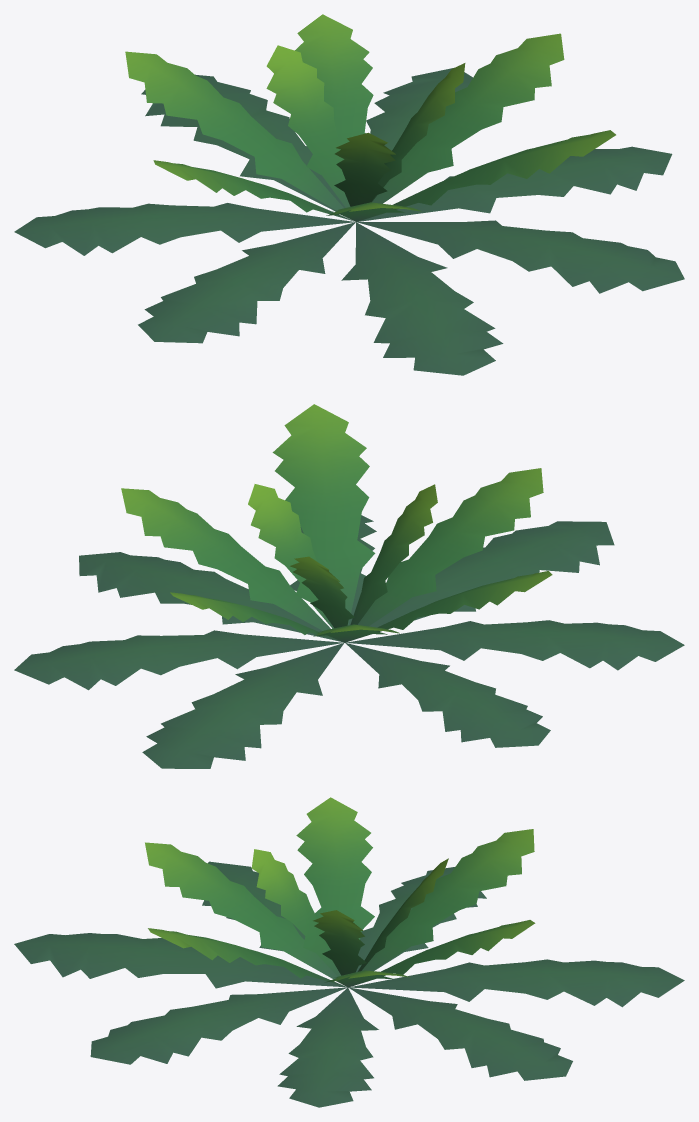
The model's file is plant_04.fbx.
3 views of the same model, one above another, from view 1: azimuth 30°, elevation 25°; view 2: azimuth 150°, elevation 25°; view 3: azimuth 270°, elevation 25° (orthographic). The views are drawn at different scales.
Parts seen in each view (by area): view 1: plant_04; view 2: plant_04; view 3: plant_04.
Boxes of the visible parts, <box> form: plant_04: <box>14,14,684,375</box>; plant_04: <box>14,404,684,768</box>; plant_04: <box>14,797,684,1107</box>.
Bounding box in the file's own units: 3.95 × 0.9043 × 4.55.
